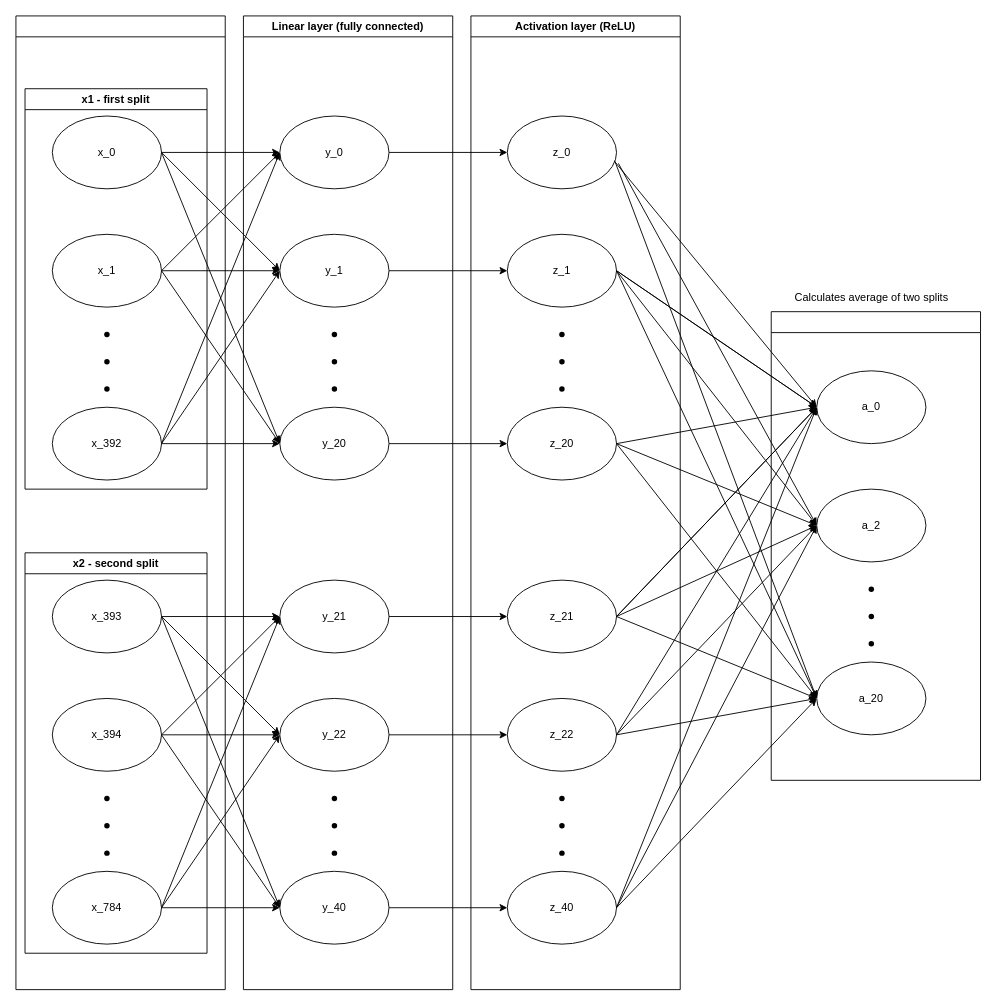
Some shapes in this 996 by 1006 pixel diagram are drawn without their labels. Here are the shapes that lost their labels. From the top down, the box of each, then its label:
(15, 15, 225, 990): Input features
(770, 311, 981, 780): Output
